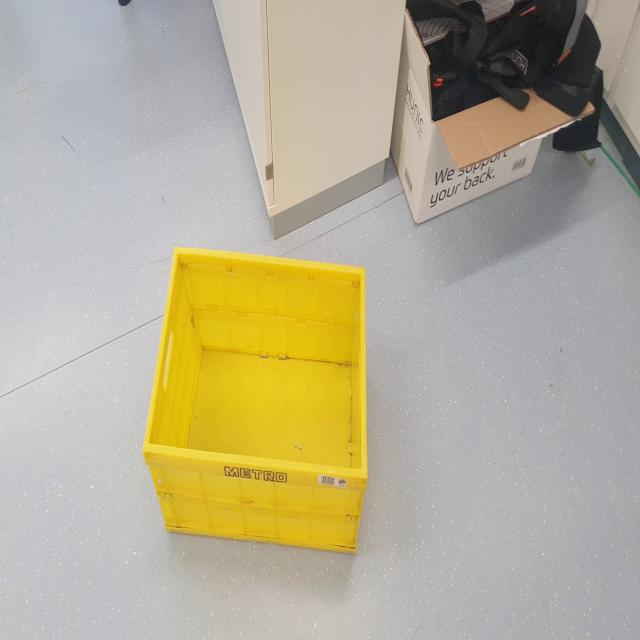box: (139, 232, 379, 592)
